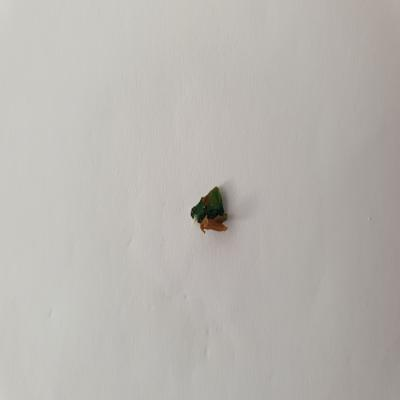plastic: (189, 182, 234, 237)
